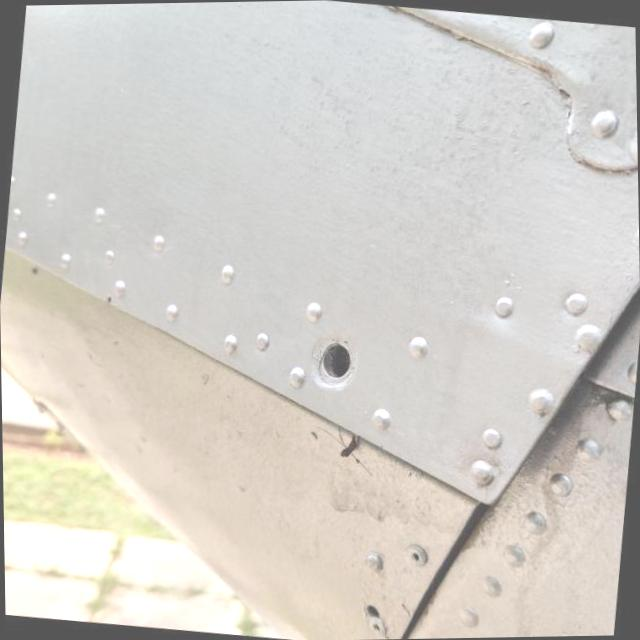Missing Fastener: (312, 336, 358, 391)
